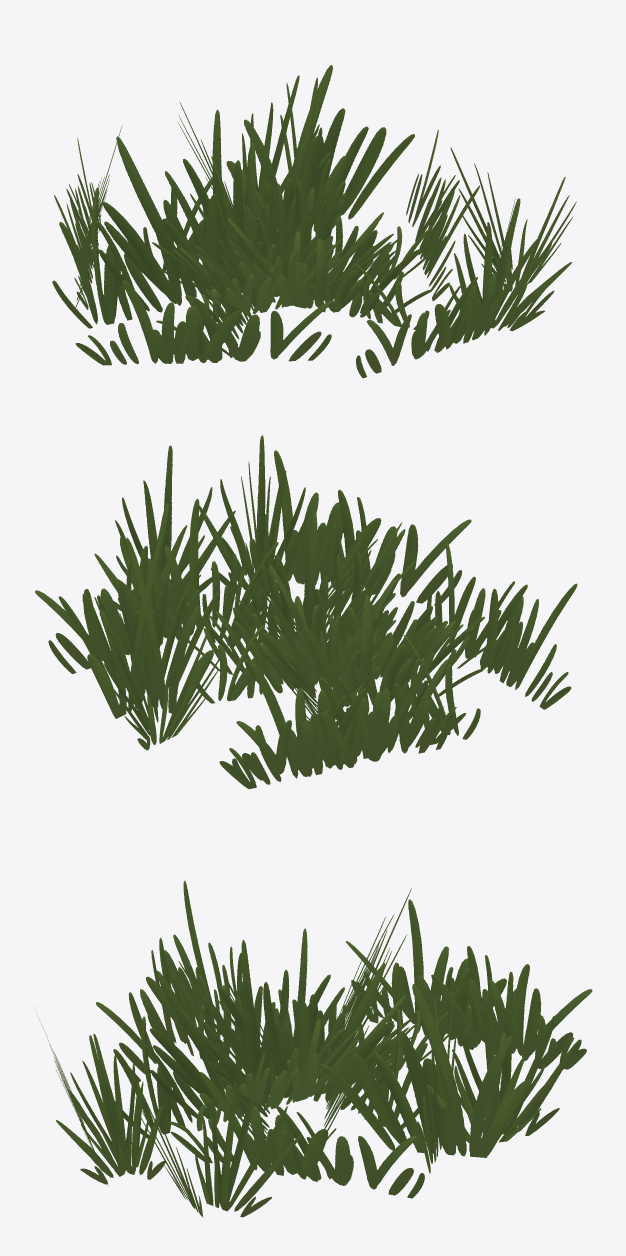
Rendered from Rocks_Grass5.fbx.
3 renders of one model, top to bottom at view 1: azimuth 30°, elevation 25°; view 2: azimuth 150°, elevation 25°; view 3: azimuth 270°, elevation 25°, orthographic. The views are drawn at different scales.
Parts seen in each view (by area): view 1: Rocks_Grass5_LOD0; view 2: Rocks_Grass5_LOD0; view 3: Rocks_Grass5_LOD0.
Part boxes in pixels (x1=…): Rocks_Grass5_LOD0: x1=52, y1=65, x2=576, y2=378; Rocks_Grass5_LOD0: x1=35, y1=434, x2=577, y2=789; Rocks_Grass5_LOD0: x1=34, y1=880, x2=592, y2=1217.
Size of what is drawn, in the model's own units: 227 by 68.42 by 207.
